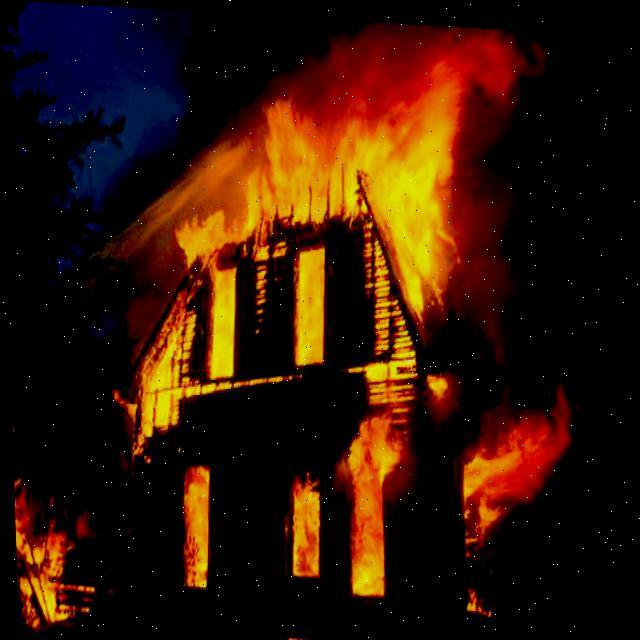Fire: (124, 20, 471, 439), (454, 379, 577, 543), (344, 434, 401, 596), (16, 498, 87, 628), (176, 459, 209, 592), (283, 474, 319, 580)
